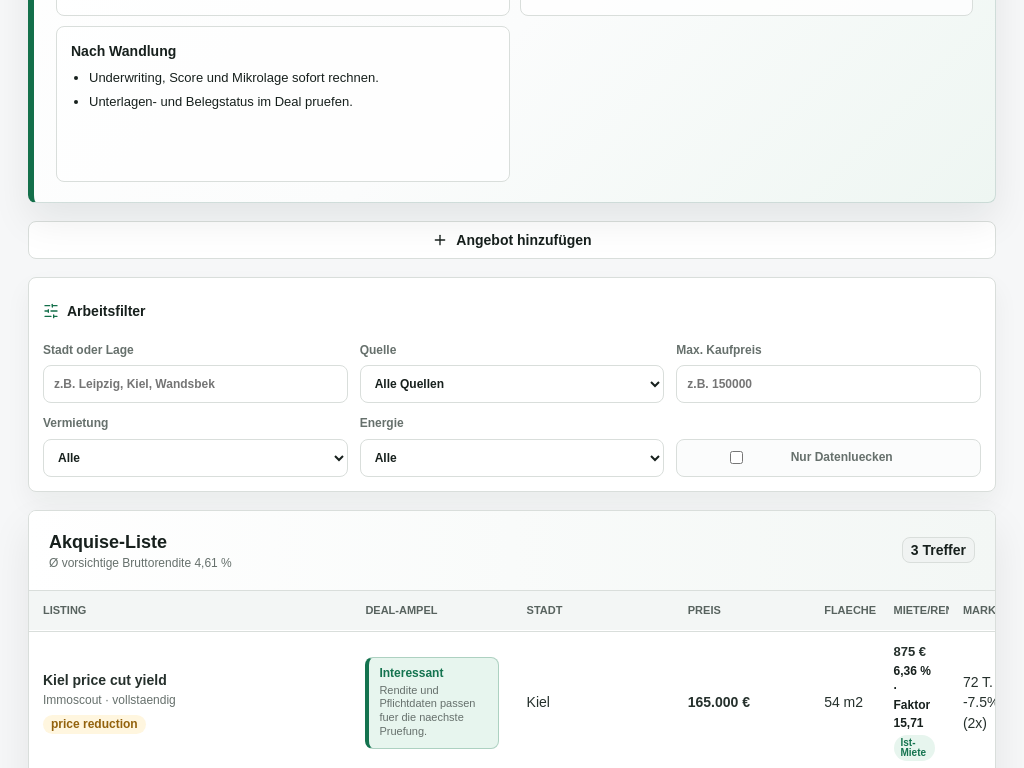
Scenario: ListingsView › updates workload metrics when the city filter narrows the working set
(page scrolled)
Type "Berlin" into the field labelled "Stadt oder Lage" at (195, 384), box [43, 365, 348, 403]
(page scrolled)
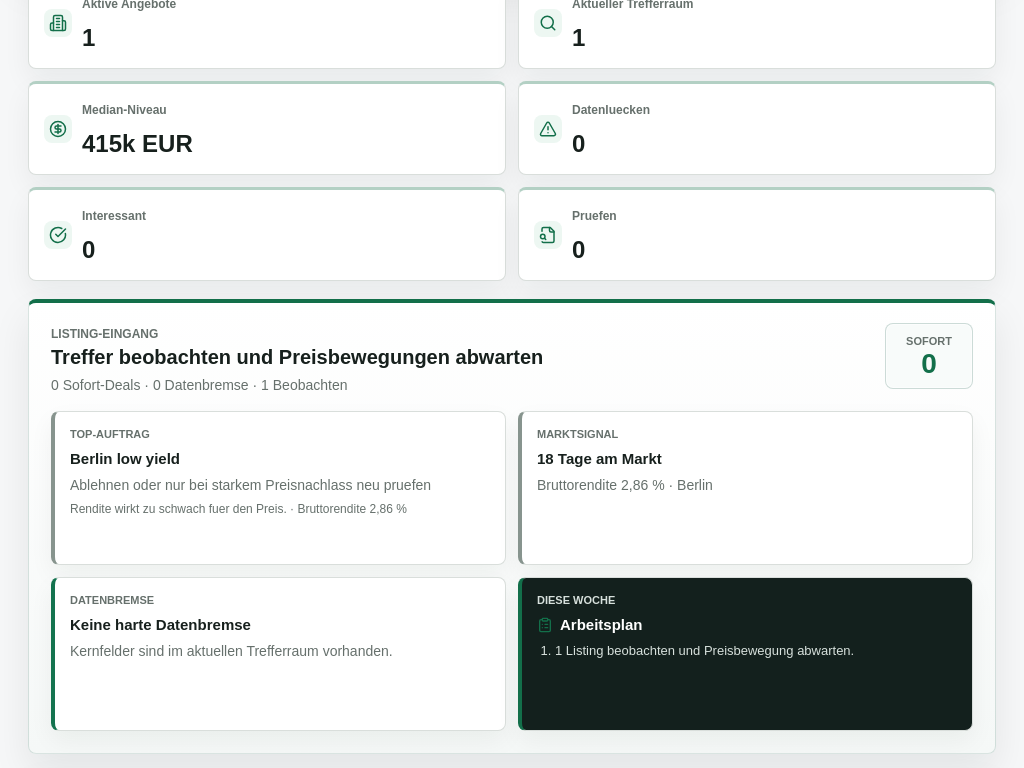
Now the text "1" below "Aktive Angebote" is shown, box [82, 24, 95, 51]
Now the 1st text "0" is shown, box [572, 130, 585, 157]
Now the text "0 Sofort-Deals · 0 Datenbremse · 1 Beobachten" is shown, box [51, 376, 348, 392]
